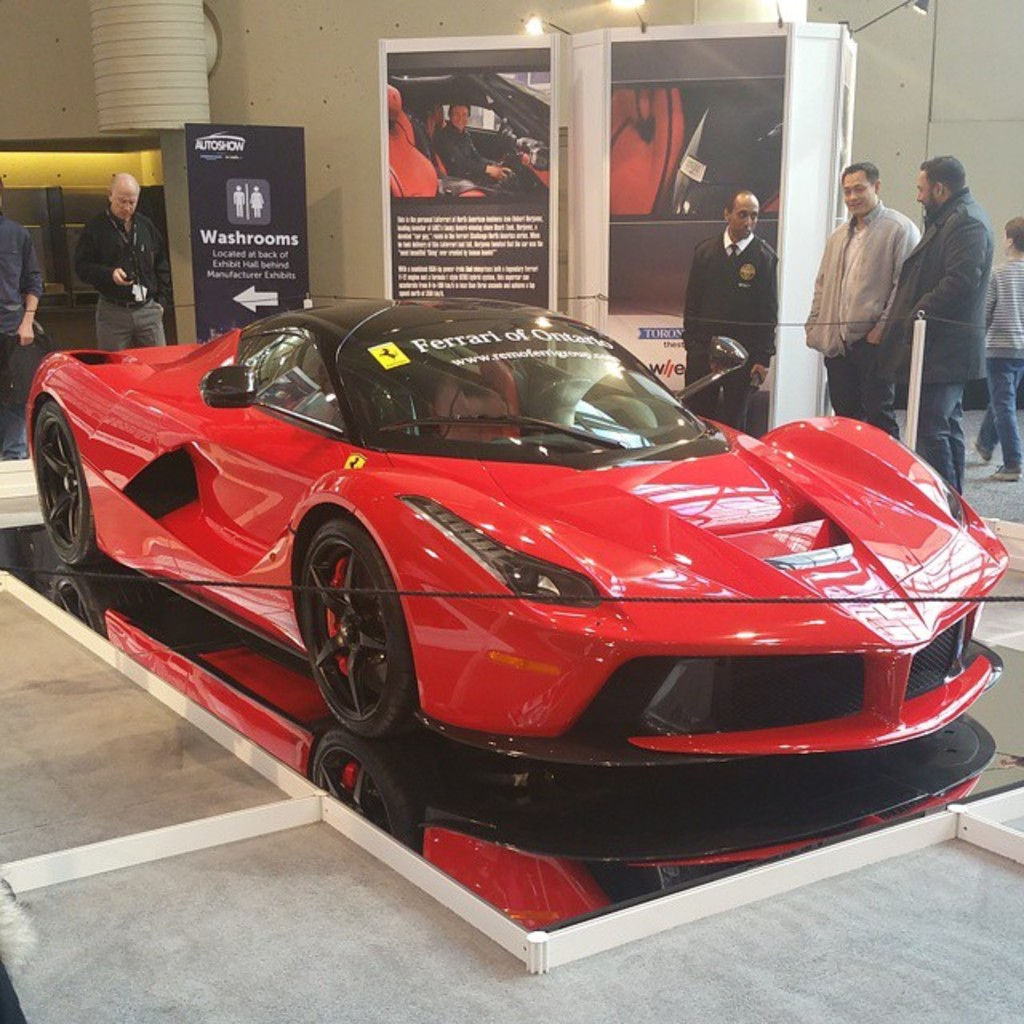Person: (805, 156, 1024, 496), (683, 188, 780, 429), (75, 172, 169, 352), (0, 180, 51, 457), (431, 101, 518, 194)
